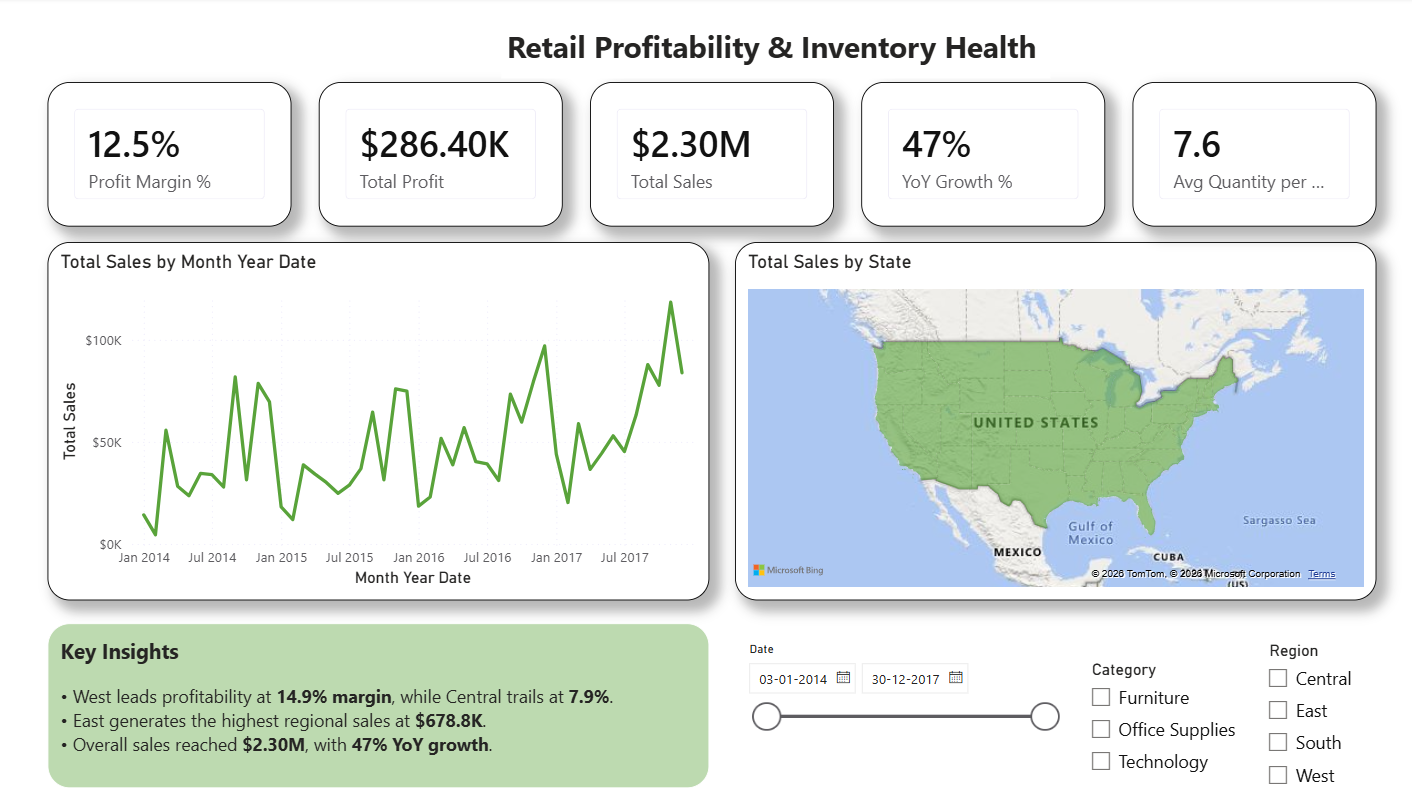

What the dashboard file says about the page in this screenshot:
{"tool":"powerbi","page":{"name":"Executive Overview","canvas":[1280,720],"ordinal":0},"visuals":[{"type":"cardVisual","fields":{"Data":["Date.Total Sales"]},"box":[532.2,76.9,220,130],"z":0},{"type":"cardVisual","fields":{"Data":["Date.Total Profit"]},"box":[287.7,76.9,220,130],"z":1000},{"type":"cardVisual","fields":{"Data":["Date.Profit Margin %"]},"box":[43.1,76.9,220,130],"z":2000},{"type":"cardVisual","fields":{"Data":["Date.YoY Growth %"]},"box":[776.8,76.9,220,130],"z":3000},{"type":"lineChart","fields":{"Y":["Date.Total Sales"],"Category":["Date.Month Year Date"]},"box":[42.9,221.4,597.1,322.9],"z":4000},{"type":"slicer","fields":{"Values":["superstore.Region"]},"box":[1131.4,575.7,147.1,144.3],"z":5000},{"type":"slicer","fields":{"Values":["superstore.Category"]},"box":[971.4,592.9,161.4,120],"z":6000},{"type":"textbox","box":[451.5,22,495.4,52.1],"z":7000},{"type":"filledMap","fields":{"Category":["superstore.State"]},"box":[662.9,221.4,578.6,322.9],"z":8000},{"type":"slicer","fields":{"Values":["Date.Date"]},"box":[662.9,575.7,300.5,98.8],"z":9000},{"type":"textbox","box":[42.9,564.3,597.1,148.6],"z":10000},{"type":"cardVisual","fields":{"Data":["Date.Sell-Through Proxy"]},"box":[1021.3,76.9,220,130],"z":11000}]}

Visuals, with their boxes in screenshot pixels (x1, y1, x2, y2), scaled from the page's 1280x720 canvas onto the 1412x792 screenshot:
cardVisual - Date.Total Sales: 587,85,830,228
cardVisual - Date.Total Profit: 317,85,560,228
cardVisual - Date.Profit Margin %: 48,85,290,228
cardVisual - Date.YoY Growth %: 857,85,1100,228
lineChart - Date.Total Sales x Date.Month Year Date: 47,244,706,599
slicer - superstore.Region: 1248,633,1410,791
slicer - superstore.Category: 1072,652,1250,784
textbox: 498,24,1045,82
filledMap - superstore.State: 731,244,1370,599
slicer - Date.Date: 731,633,1063,742
textbox: 47,621,706,784
cardVisual - Date.Sell-Through Proxy: 1127,85,1369,228
